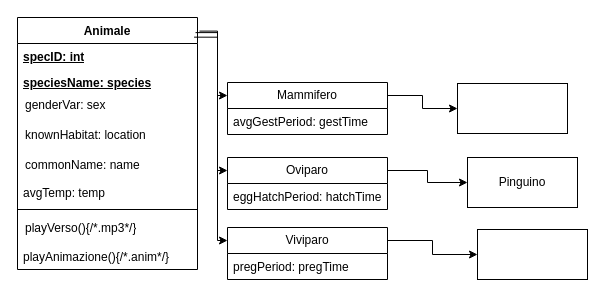
This 605x300 diagram has some shape labels left out. The centre of each missing label's shape, as x and y in pixels:
"Cane" belongs at point (512, 108).
"Gatto(?!)" belongs at point (532, 254).
